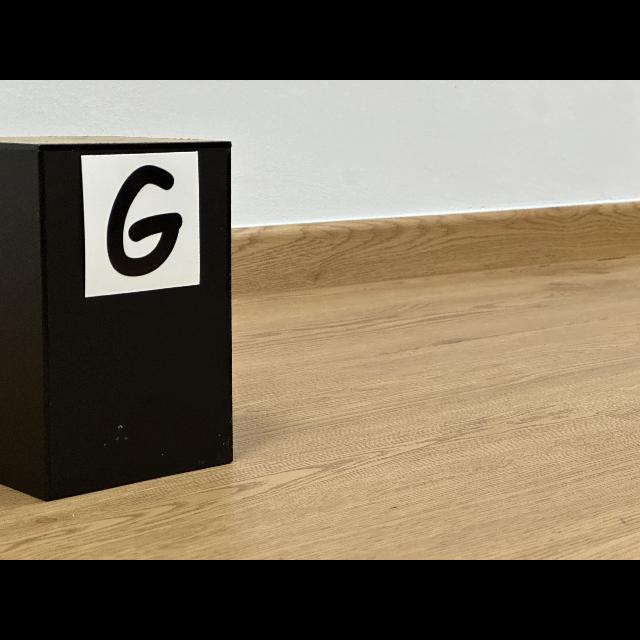G: (108, 165, 182, 276)
